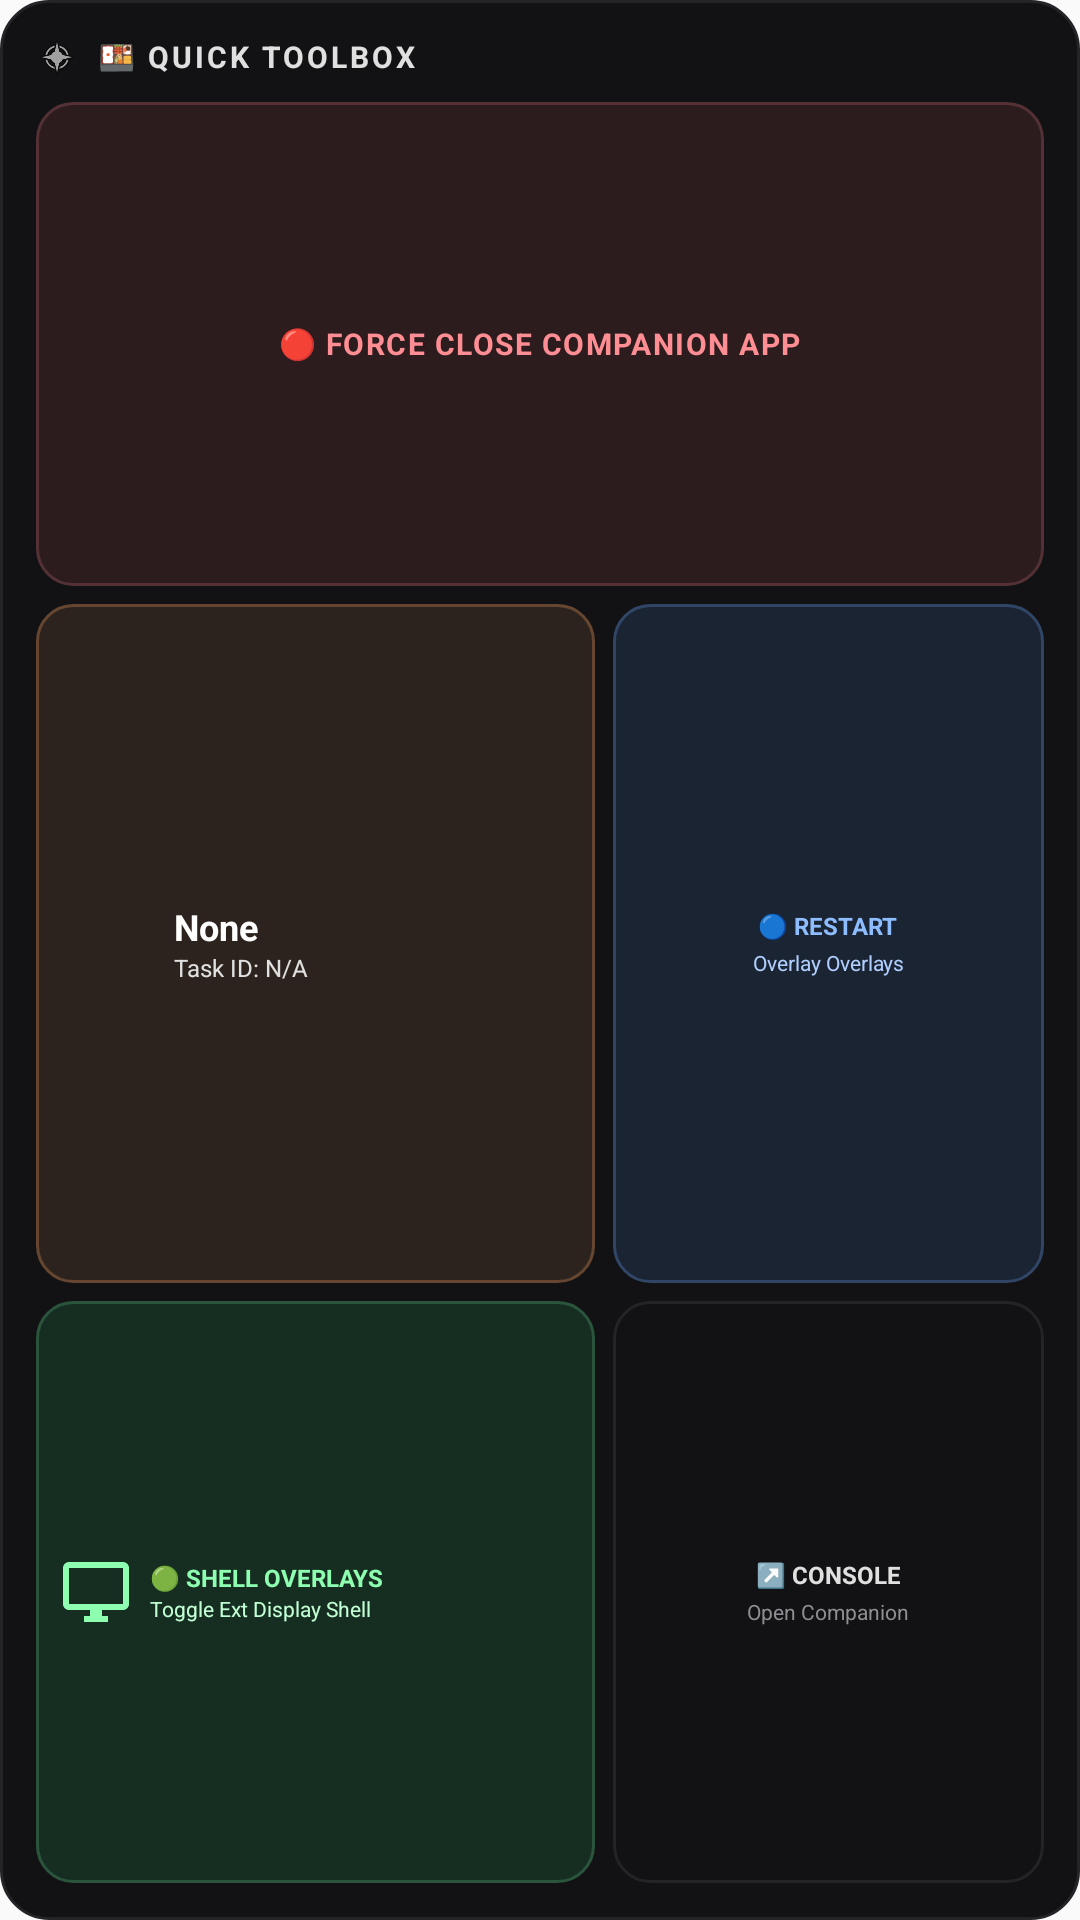

Locate icon controls on the screen. Image size 1080w x 1920h, boxes as {"left": x1, "top": y1, "right": x2, "bottom": y2}.
compass: {"left": 42, "top": 43, "right": 72, "bottom": 72}
monitor monochrome: {"left": 63, "top": 1562, "right": 129, "bottom": 1622}
